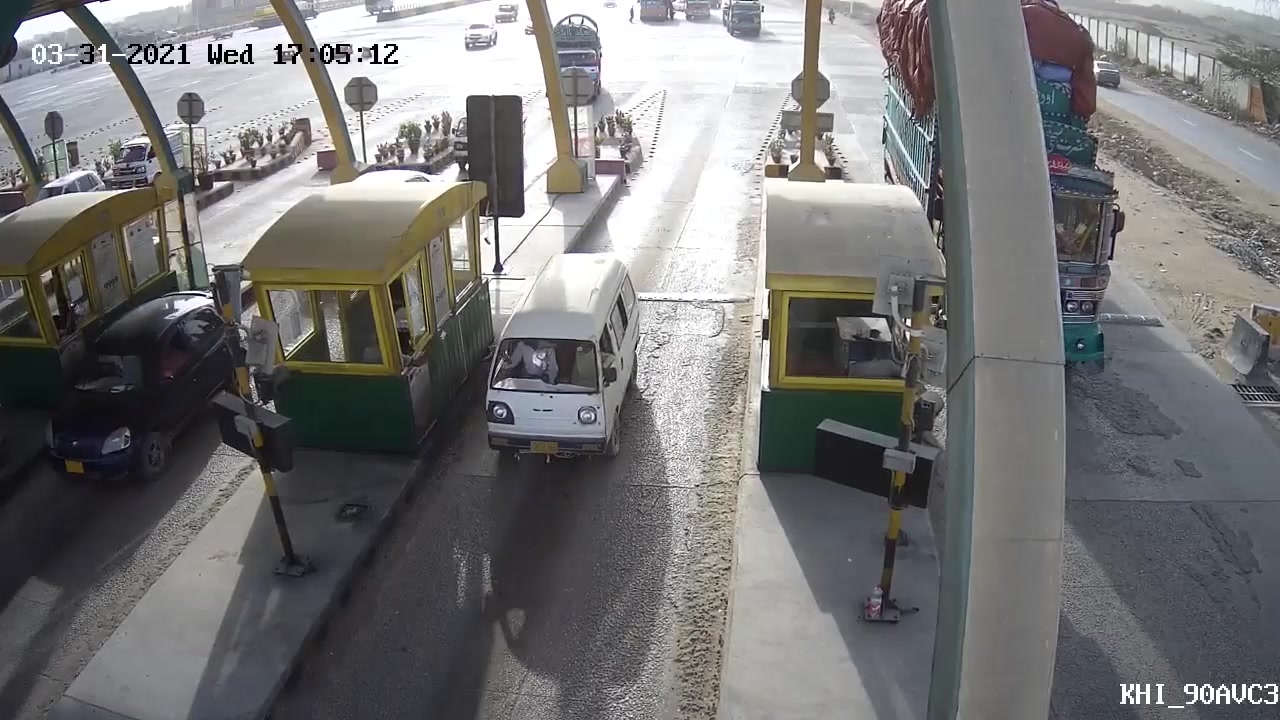F1: (473, 244, 651, 474)
